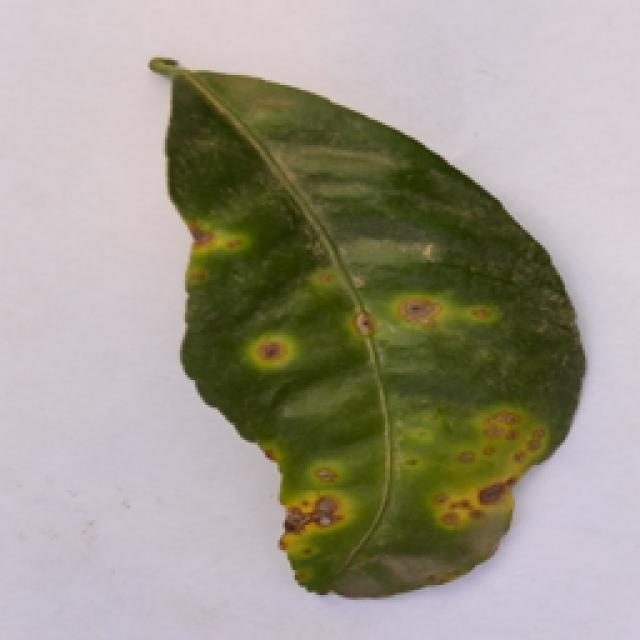canker: (152, 57, 590, 593)
